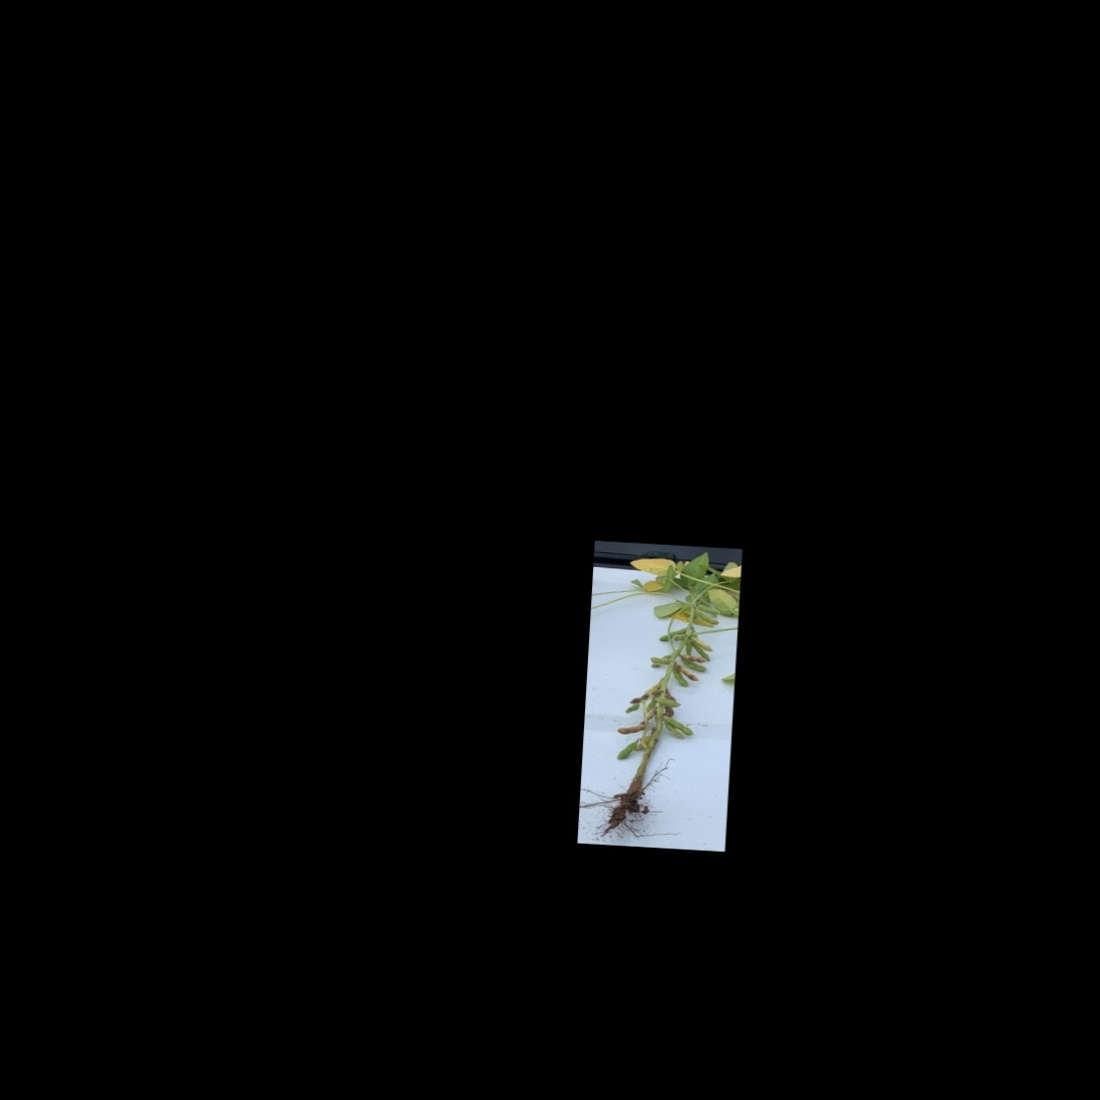pod: (662, 714, 697, 737), (615, 736, 640, 764), (670, 661, 700, 682), (668, 664, 692, 690), (613, 720, 646, 737), (692, 608, 723, 625), (678, 658, 709, 673), (689, 634, 714, 652), (645, 653, 673, 666), (668, 626, 686, 637)
soy: (606, 545, 741, 843)
